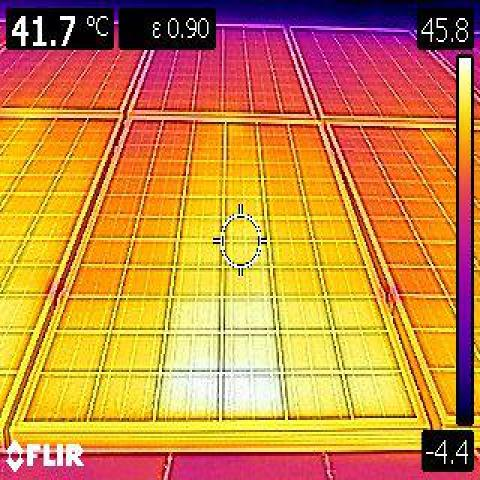fault: (159, 372, 220, 419), (225, 375, 286, 418), (226, 330, 280, 374), (166, 331, 220, 368), (223, 295, 276, 325), (172, 299, 222, 329)
